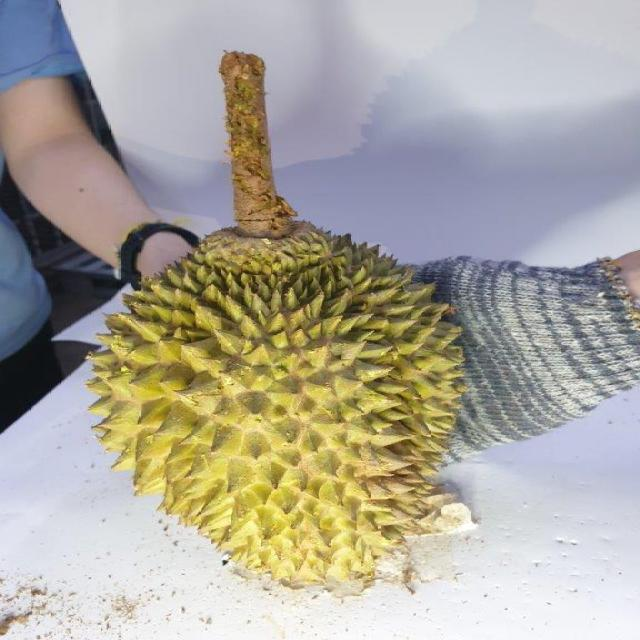immature: (89, 217, 464, 596)
